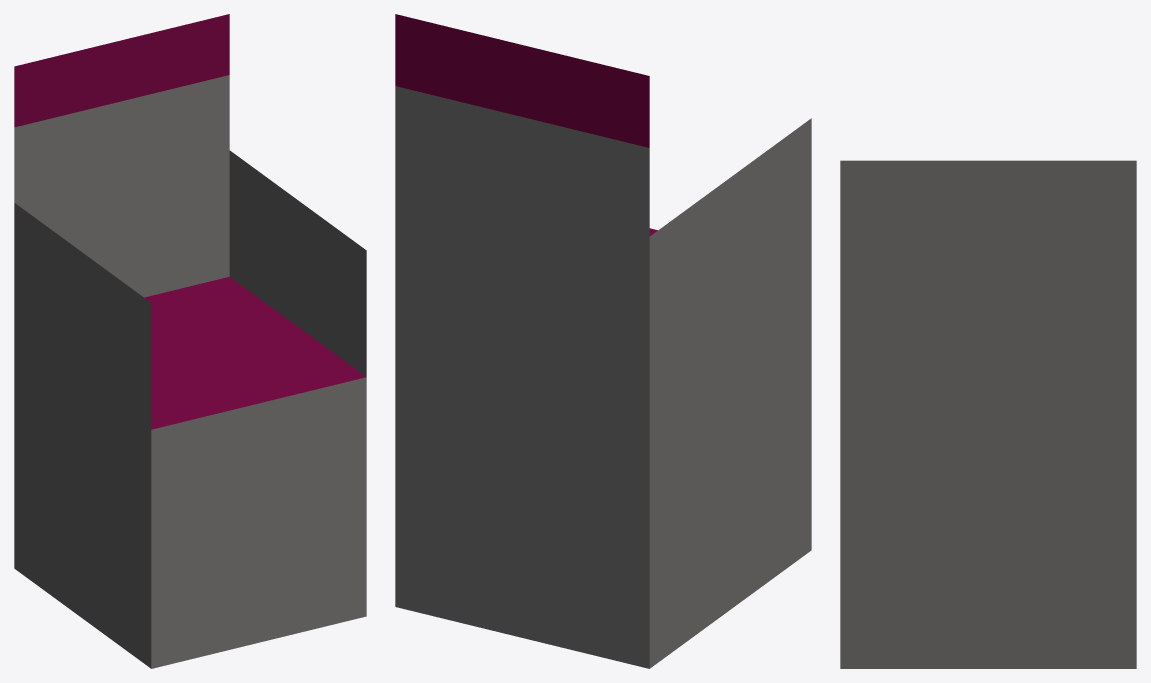
The model's file is SM_Prop_Chair_01_edges.glb.
The picture shows the model from 3 angles, left to right: view 1: azimuth 30°, elevation 25°; view 2: azimuth 150°, elevation 25°; view 3: azimuth 270°, elevation 25°; orthographic projection. The views are drawn at different scales.
Parts seen in each view (by area): view 1: SM Prop Chair 01_edges; view 2: SM Prop Chair 01_edges; view 3: SM Prop Chair 01_edges.
Part boxes in pixels (left/top/right/bottom): SM Prop Chair 01_edges: left=14, top=14, right=366, bottom=668; SM Prop Chair 01_edges: left=395, top=14, right=811, bottom=668; SM Prop Chair 01_edges: left=840, top=160, right=1136, bottom=668.
Bounding box in the file's own units: 0.48 × 1.07 × 0.53.
Materials: 2 (1 with a texture image).
